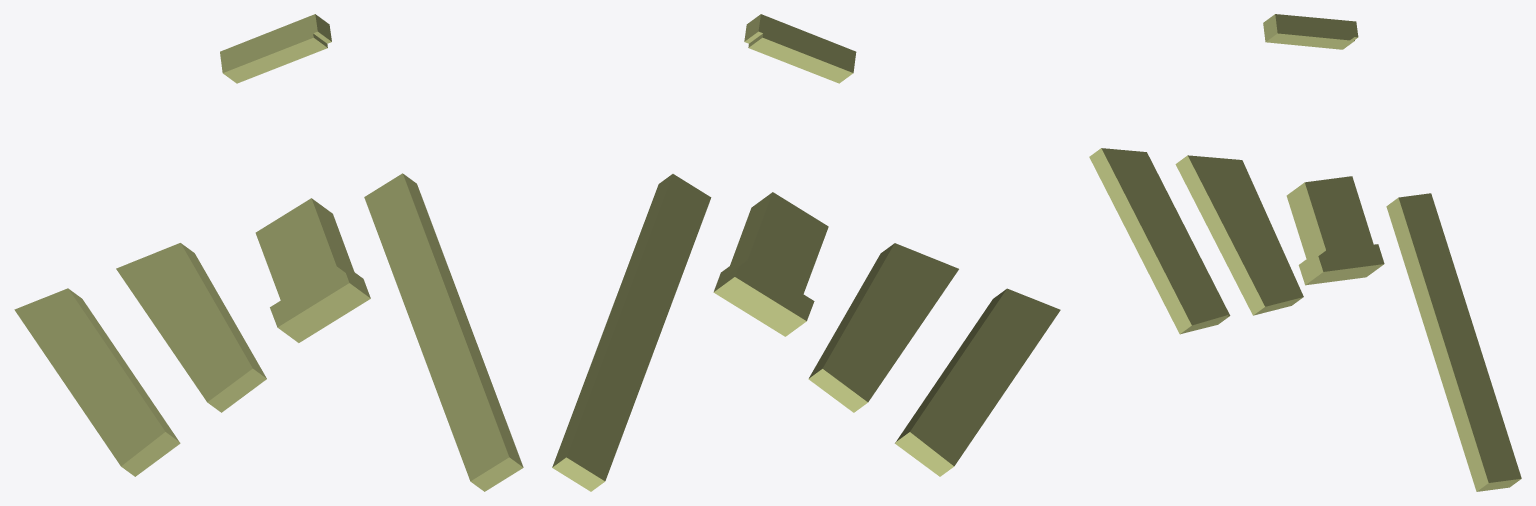
3 renders of one model, left to right at view 1: azimuth 30°, elevation 25°; view 2: azimuth 150°, elevation 25°; view 3: azimuth 330°, elevation 25°, orthographic. The views are drawn at different scales.
Parts seen in each view (by area): view 1: 0_1_3_2_2_2_1_0; view 2: 0_1_3_2_2_2_1_0; view 3: 0_1_3_2_2_2_1_0.
Part boxes in pixels (<box>): 0_1_3_2_2_2_1_0: <box>14,14,523,491</box>; 0_1_3_2_2_2_1_0: <box>552,14,1060,491</box>; 0_1_3_2_2_2_1_0: <box>1089,14,1521,491</box>.
Bounding box in the file's own units: 120 × 117 × 9.35.
